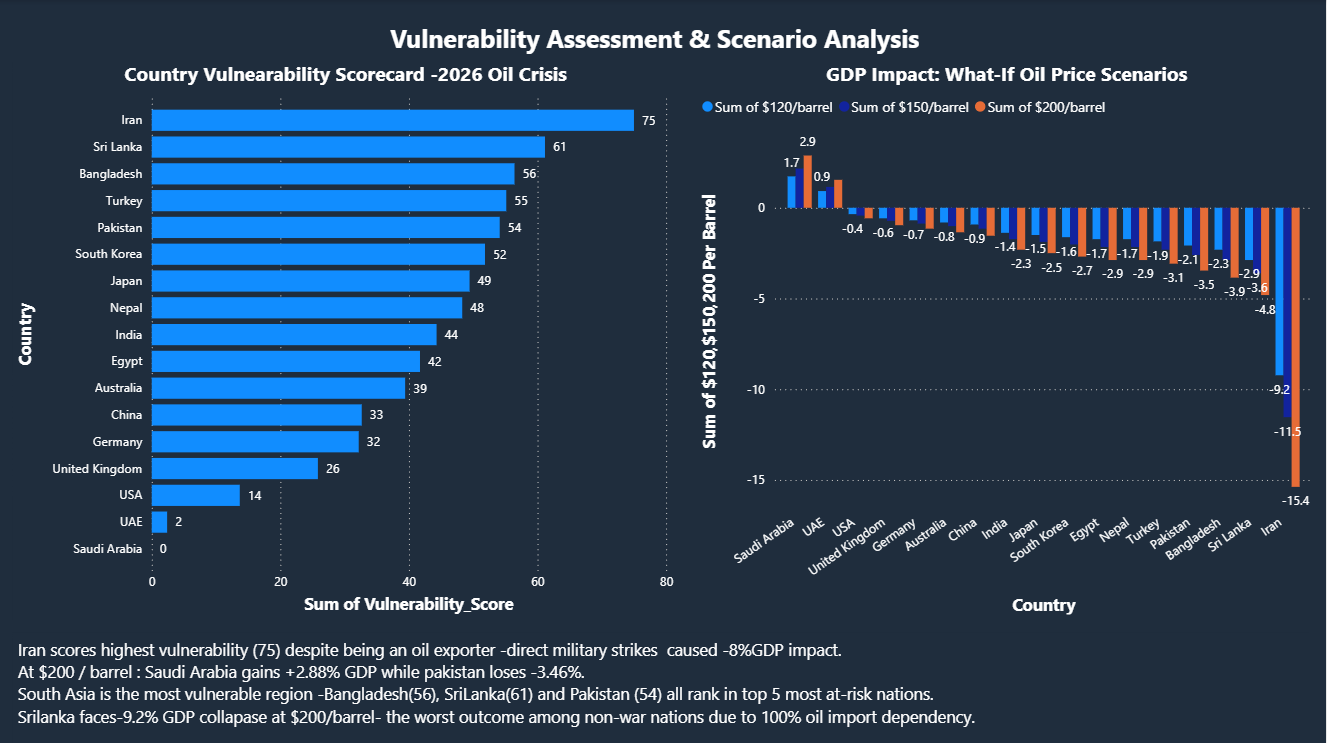

The dashboard page shown, as its layout file describes it:
{"tool":"powerbi","page":{"name":"Vulnerability & Scenarios","canvas":[1280,720],"ordinal":1},"visuals":[{"type":"clusteredBarChart","title":"Country Vulnearability Scorecard -2026 Oil Crisis","fields":{"Category":["vulnerability_scorecard.Country"],"Y":["Sum(vulnerability_scorecard.Vulnerability_Score)"]},"box":[12.1,57.9,643,540.5],"z":0},{"type":"textbox","box":[371.6,15.7,536.9,43.4],"z":1000},{"type":"clusteredColumnChart","title":"GDP Impact: What-If Oil Price Scenarios","fields":{"Category":["whatif_scenarios.Country"],"Y":["Sum(whatif_scenarios.$120/barrel)","Sum(whatif_scenarios.$150/barrel)","Sum(whatif_scenarios.$200/barrel)"]},"box":[672,57.9,599.6,540.5],"z":2000},{"type":"textbox","box":[12.1,610.5,1251.1,109.8],"z":3000}]}

Visuals, with their boxes in screenshot pixels (x1, y1, x2, y2), scaled from the page's 1280x720 canvas onto the 1327x743 screenshot:
"Country Vulnearability Scorecard -2026 Oil Crisis" clusteredBarChart: BBox(13, 60, 679, 618)
textbox: BBox(385, 16, 942, 61)
"GDP Impact: What-If Oil Price Scenarios" clusteredColumnChart: BBox(697, 60, 1318, 618)
textbox: BBox(13, 630, 1310, 742)
